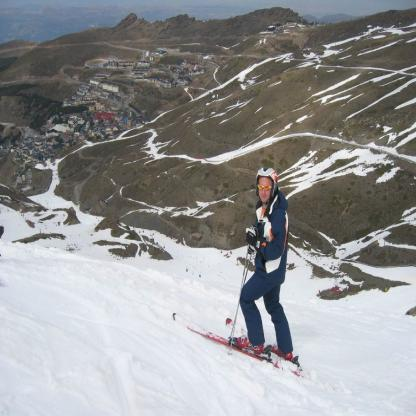Helmet: (254, 166, 280, 211)
